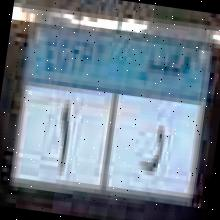1: (48, 100, 78, 174)
raa: (132, 118, 172, 176)
